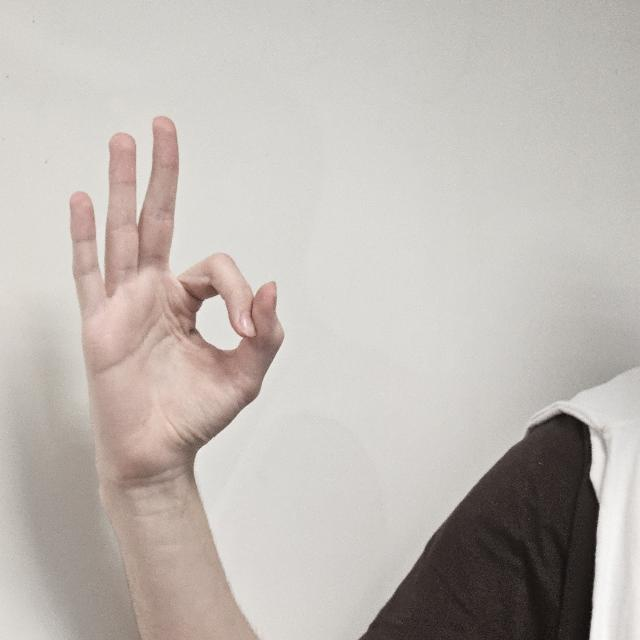Bolinha: (67, 114, 286, 482)
